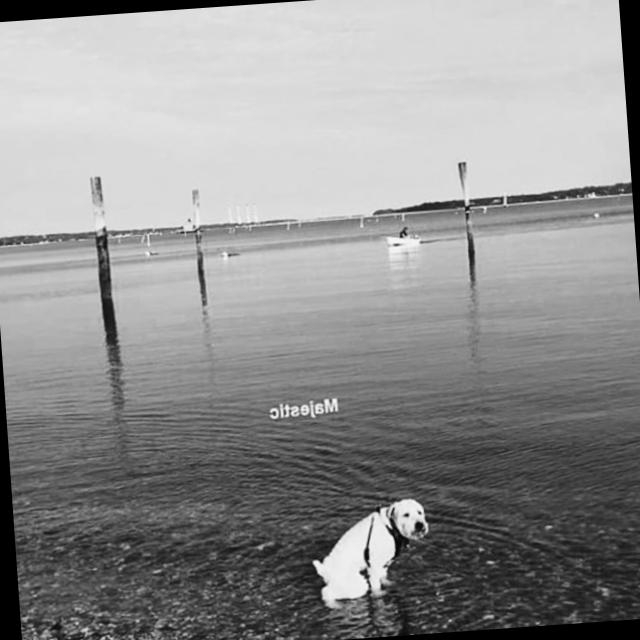squatting: (297, 490, 445, 616)
